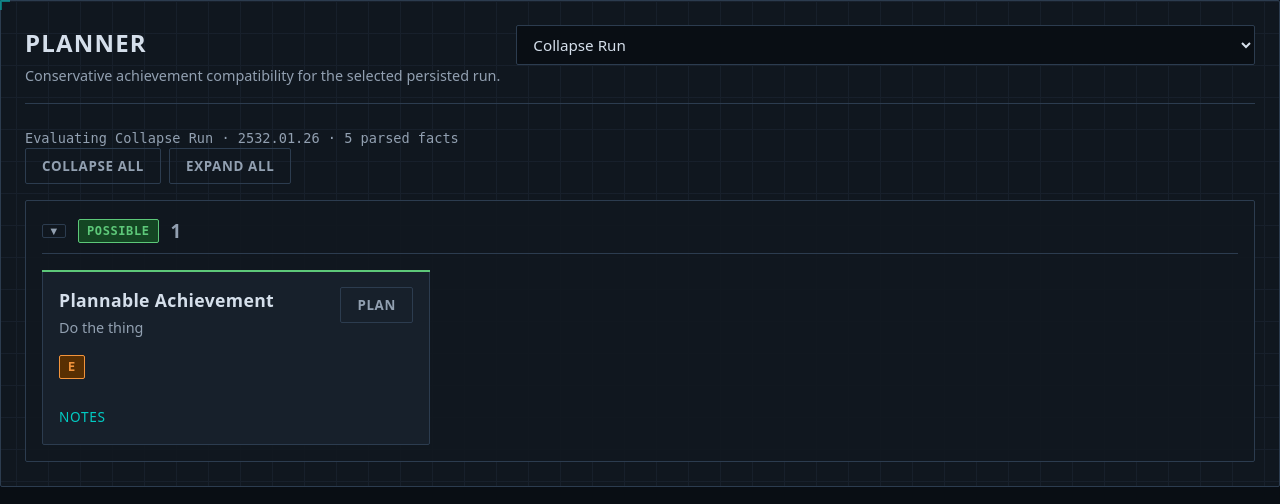
Test: renders Collapse All and Expand All controls in Planner
expect the text "Plannable Achievement" is shown: met, box [59, 287, 274, 314]
expect the button "Expand All" is shown: met, box [169, 148, 291, 184]
# Click Collapse All
Click the button "Collapse All" at x=93, y=166, box [25, 148, 161, 184]
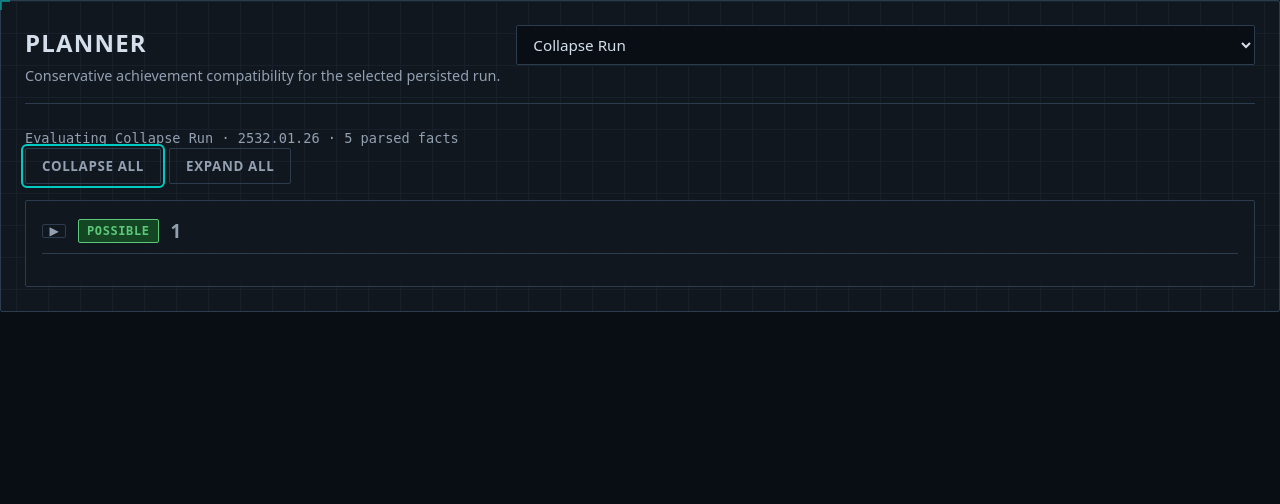
expect the text "Plannable Achievement" is gone: met
# Click Expand All
Click the button "Expand All" at x=230, y=166, box [169, 148, 291, 184]
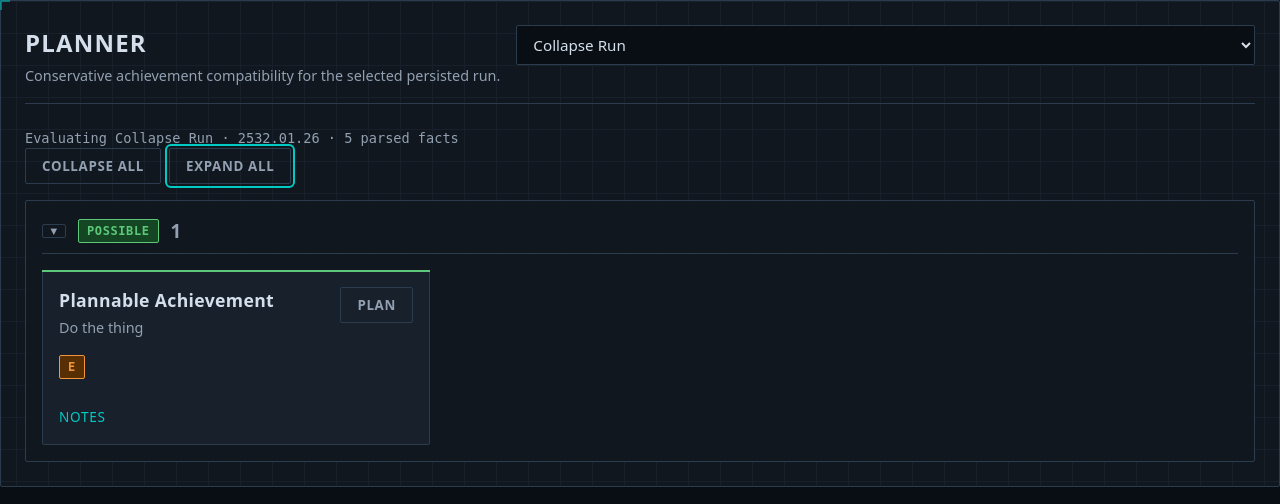
expect the text "Plannable Achievement" is shown: met, box [59, 287, 274, 314]
